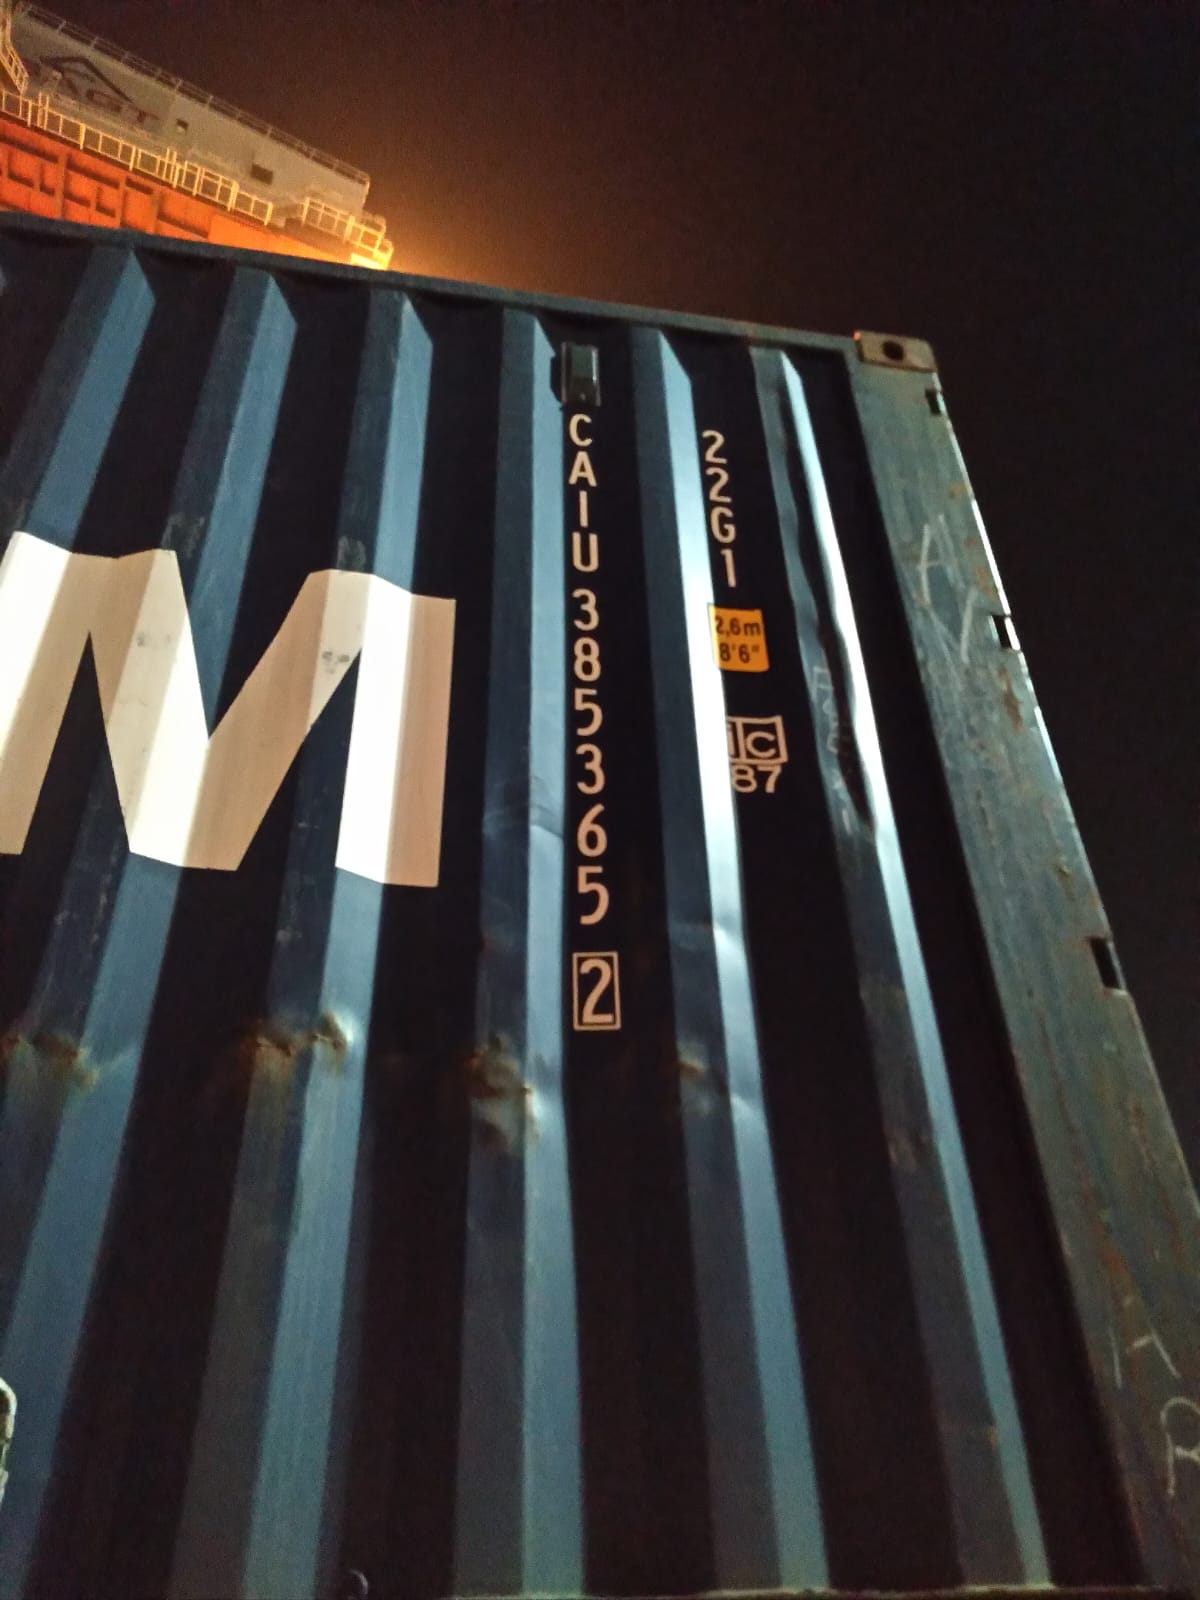dented: (40, 999, 575, 1174)
